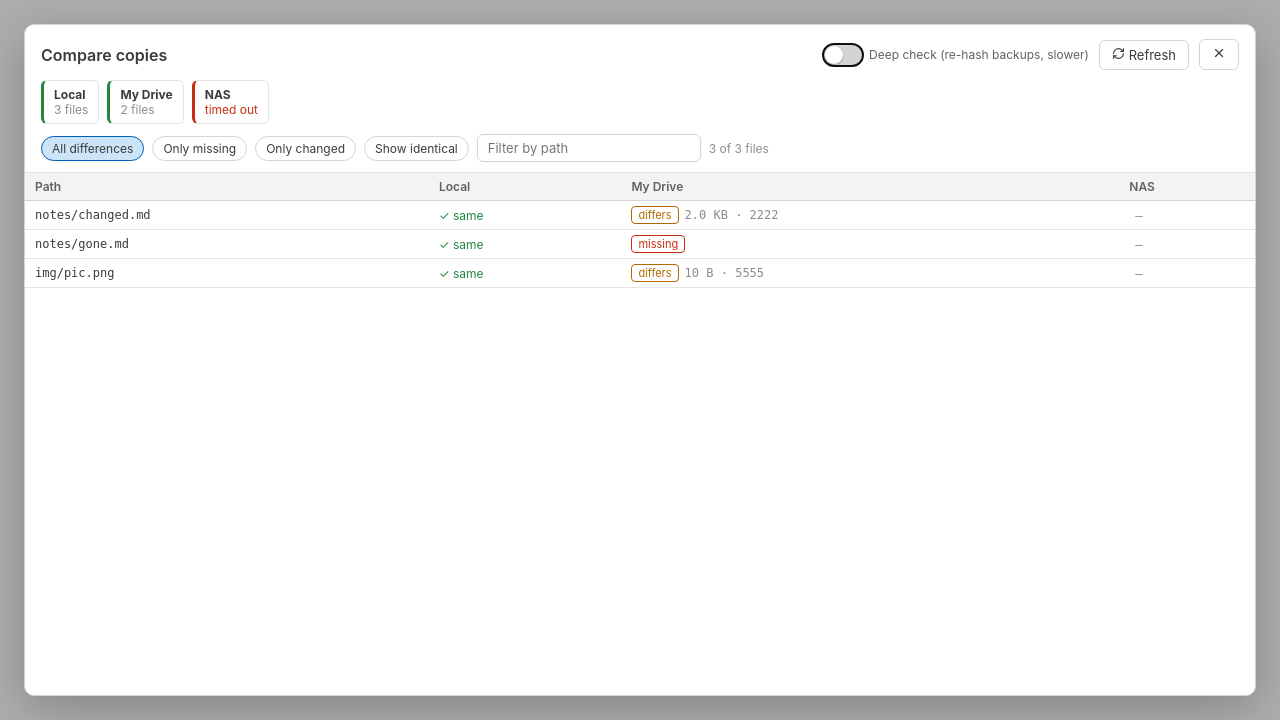
Scenario: CompareModal › shows size and hash for binary files
Click the row with test id "compare-row-img/pic.png".
click(640, 273)  # box [25,258,1255,288]
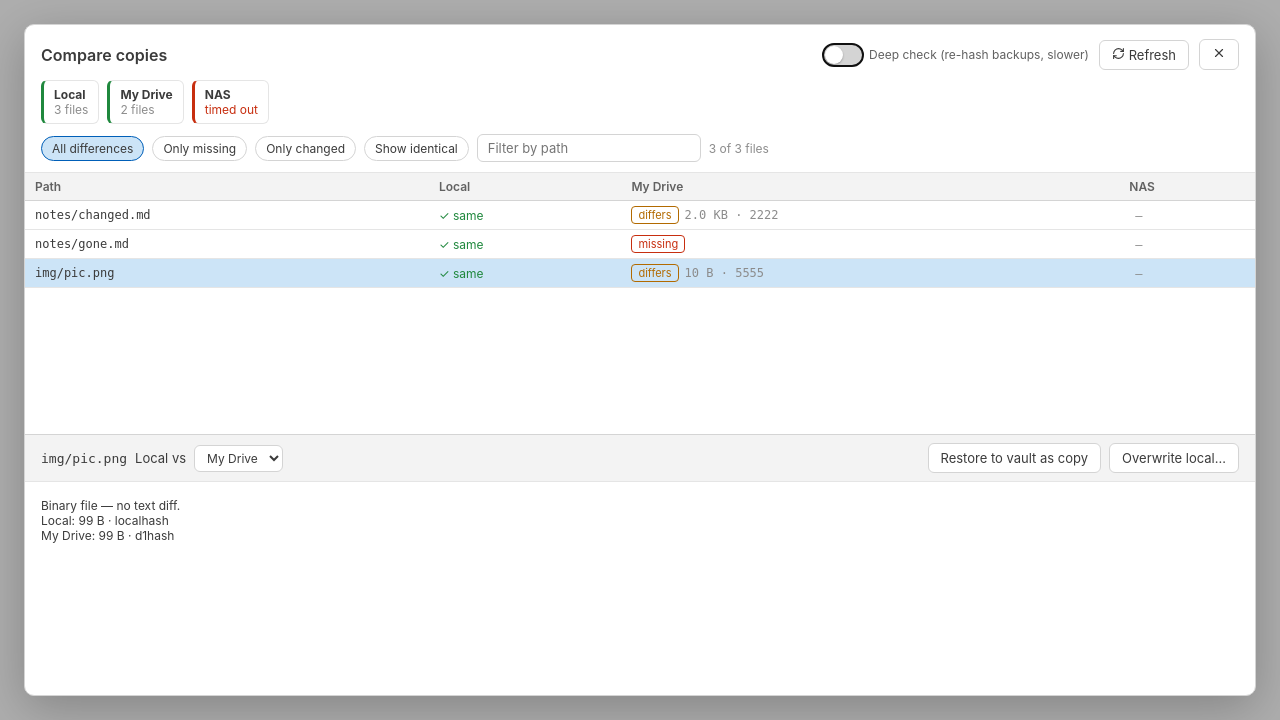
Expected: the element with test id "compare-binary" shows "Local: 99 B · localhash", [41,498,180,543]
Expected: the element with test id "compare-binary" shows "My Drive: 99 B · d1hash", [41,498,180,543]
